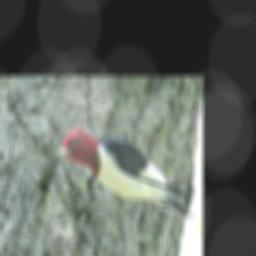Woodpecker: (47, 121, 200, 232)
